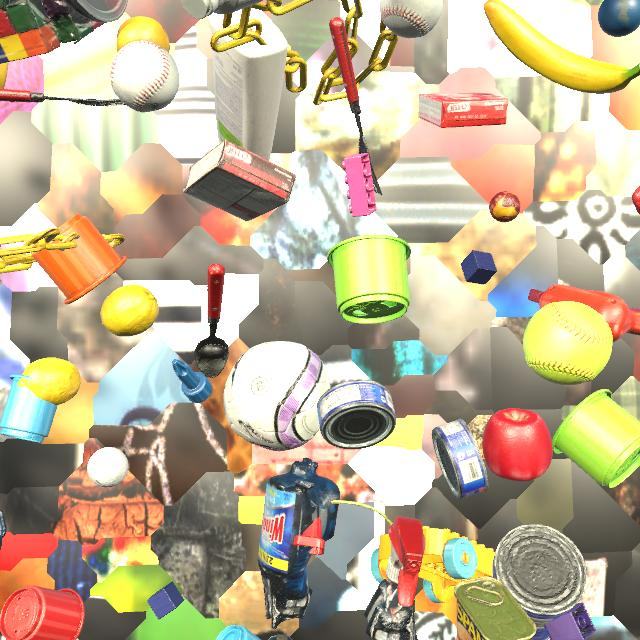ycb_002_master_chef_can: (488, 524, 587, 640)
ycb_006_mustard_bottle: (0, 62, 8, 89)
ycb_007_tuna_fish_can: (317, 380, 396, 449), (432, 419, 489, 499)
ycb_008_pudding_box: (183, 139, 297, 222)
ycb_009_gelatin_box: (418, 92, 509, 128)
ycb_010_potted_meat_can: (453, 576, 536, 640)
ycb_011_banana: (484, 0, 640, 94)
ycb_012_strawberry: (632, 186, 640, 215)
ycb_013_apple: (482, 408, 553, 481)
ycb_014_lemon: (100, 284, 159, 337), (17, 358, 81, 405)
ycb_015_peach: (116, 16, 170, 52)
